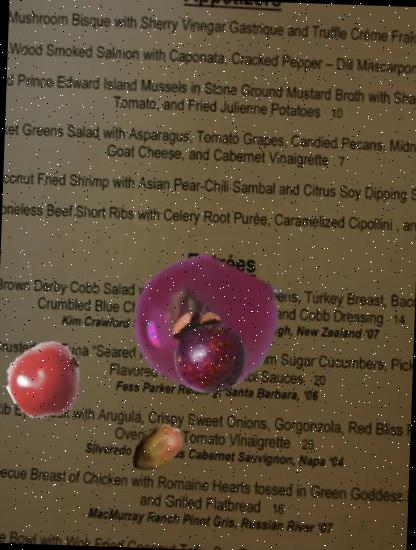Mangostan: (162, 304, 254, 396)
Papaya: (126, 419, 187, 480)
Redcurrant: (132, 252, 277, 398)
Tomato: (6, 343, 86, 422)
